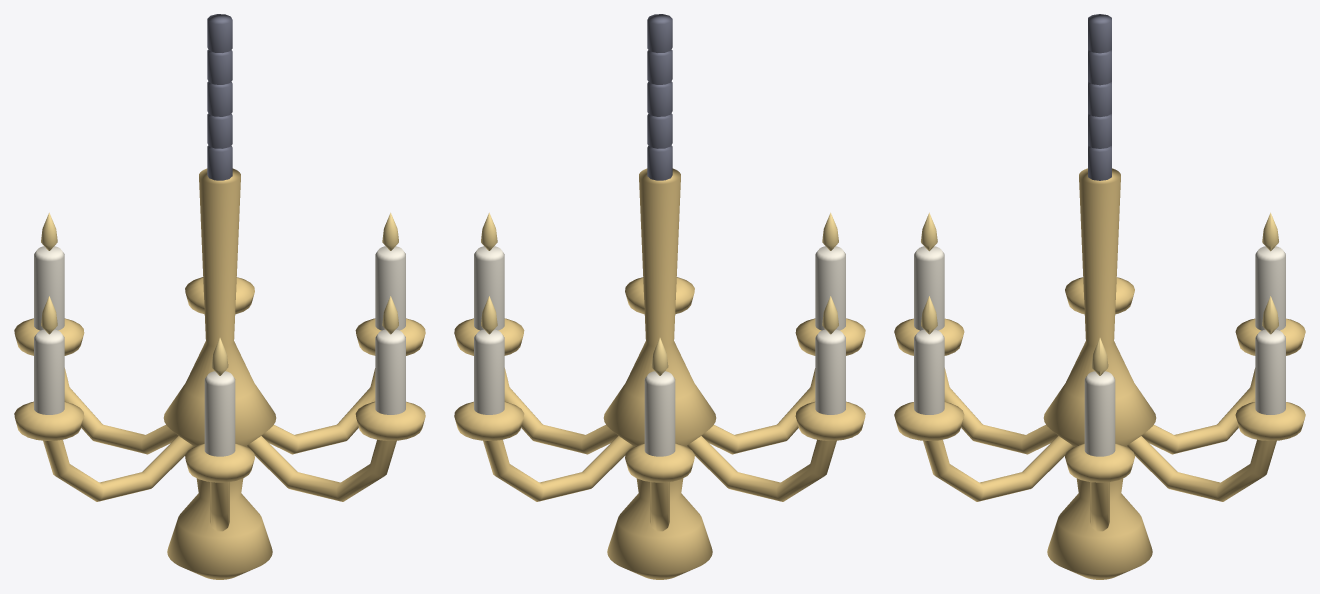
The model's file is chandelier4.glb.
The picture shows the model from 3 angles, left to right: view 1: azimuth 30°, elevation 25°; view 2: azimuth 150°, elevation 25°; view 3: azimuth 270°, elevation 25°; orthographic projection.
Visible parts, largest first — view 1: hub, arm5, arm3, wax.004, wax.003, wax.005, arm0, arm2, wax.002, wax, cup4, cup3 (+10 smaller); view 2: hub, arm1, arm3, wax.002, wax.001, wax.003, arm0, arm4, wax.004, wax, cup2, cup3 (+10 smaller); view 3: hub, arm1, arm5, wax, wax.001, wax.005, arm2, arm4, wax.002, wax.004, cup0, cup1 (+10 smaller).
Part boxes in pixels (left/top/right/bottom): hub: left=163, top=168, right=276, bottom=579; arm5: left=246, top=436, right=396, bottom=501; arm3: left=43, top=436, right=193, bottom=501; wax.004: left=204, top=371, right=235, bottom=456; wax.003: left=34, top=329, right=64, bottom=414; wax.005: left=375, top=329, right=405, bottom=414; arm0: left=261, top=368, right=375, bottom=454; arm2: left=64, top=368, right=178, bottom=454; wax.002: left=34, top=246, right=64, bottom=330; wax: left=375, top=246, right=405, bottom=330; cup4: left=185, top=443, right=254, bottom=482; cup3: left=14, top=401, right=84, bottom=440; hub: left=603, top=168, right=716, bottom=579; arm1: left=483, top=436, right=633, bottom=501; arm3: left=686, top=436, right=836, bottom=501; wax.002: left=644, top=371, right=675, bottom=456; wax.001: left=474, top=329, right=504, bottom=414; wax.003: left=815, top=329, right=845, bottom=414; arm0: left=504, top=368, right=618, bottom=454; arm4: left=701, top=368, right=815, bottom=454; wax.004: left=815, top=246, right=845, bottom=330; wax: left=474, top=246, right=504, bottom=330; cup2: left=625, top=443, right=694, bottom=482; cup3: left=795, top=401, right=865, bottom=440; hub: left=1043, top=168, right=1156, bottom=579; arm1: left=1126, top=436, right=1276, bottom=501; arm5: left=923, top=436, right=1073, bottom=501; wax: left=1084, top=371, right=1115, bottom=456; wax.001: left=1255, top=329, right=1285, bottom=414; wax.005: left=914, top=329, right=944, bottom=414; arm2: left=1141, top=368, right=1255, bottom=454; arm4: left=944, top=368, right=1058, bottom=454; wax.002: left=1255, top=246, right=1285, bottom=330; wax.004: left=914, top=246, right=944, bottom=330; cup0: left=1065, top=443, right=1134, bottom=482; cup1: left=1235, top=402, right=1305, bottom=440.
Bounding box in the file's own units: 0.66 × 0.865 × 0.585.
